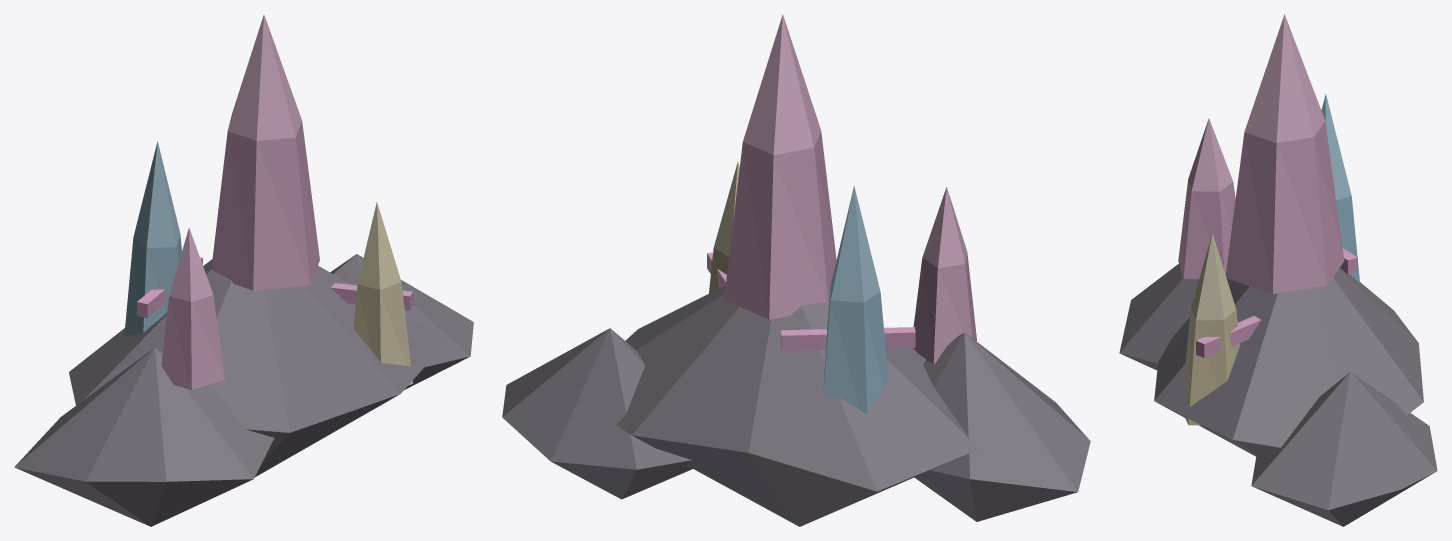
File: Prism_Cluster.glb
3 renders of one model, left to right at view 1: azimuth 30°, elevation 25°; view 2: azimuth 150°, elevation 25°; view 3: azimuth 270°, elevation 25°, orthographic. The views are drawn at different scales.
Visible parts, largest first — view 1: Prism_Cluster; view 2: Prism_Cluster; view 3: Prism_Cluster.
Boxes of the visible parts, box(x1,y1,x2,y2) form: Prism_Cluster: box(14, 14, 473, 526); Prism_Cluster: box(502, 14, 1090, 526); Prism_Cluster: box(1119, 14, 1437, 526).
Bounding box in the file's own units: 1.66 × 1.5 × 0.9255.
